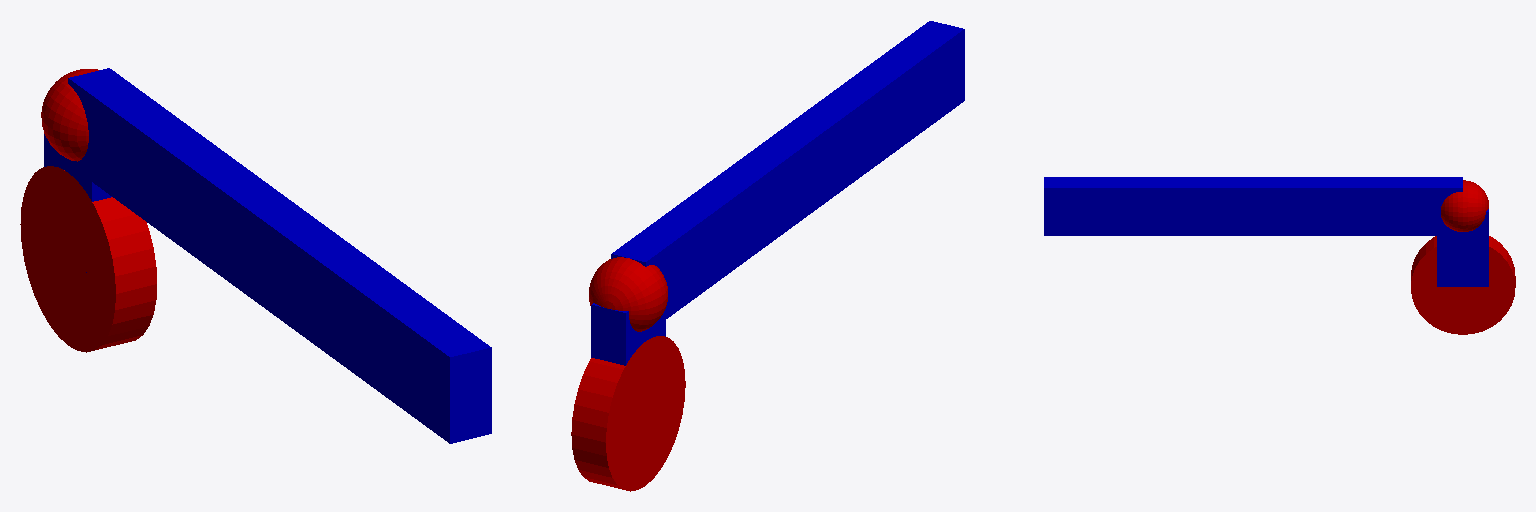
robot.urdf — TwoLinkStruct5673316554:
<?xml version="1.0"?>
<robot  name="TwoLinkStruct5673316554" >
 <material  name="blue" >
  <color  rgba="0 0 0.8 1.0" />
 </material>
 <material  name="red" >
  <color  rgba="0.8 0 0 1.0" />
 </material>
 <link  name="base_link" >
  <visual >
   <origin  rpy="0 1.5707 0"  xyz="0 0 0" />
   <material  name="red" />
   <geometry >
    <cylinder  length="0.05"  radius="0.1" />
   </geometry>
  </visual>
 </link>
 <joint  type="revolute"  name="joint1" >
  <parent  link="base_link" />
  <child  link="link1" />
  <origin  xyz="0 0 0"  rpy="0 0 0" />
  <axis  xyz="1 0 0" />
 </joint>
 <link  name="link1" >
  <inertial >
   <origin  rpy="0 0 0"  xyz="0 0 0.07960283236634784" />
   <mass  value="0.3709419367813739" />
   <inertia  ixy="0.0"  iyy="0.00015455914032557247"  izz="0.0008607844793531558"  ixz="0.0"  ixx="0.0008607844793531558"  iyz="0.0" />
  </inertial>
  <visual >
   <origin  rpy="0 0 0"  xyz="0 0 0.07960283236634784" />
   <material  name="blue" />
   <geometry >
    <box  size="0.05 0.1 0.15920566473269568" />
   </geometry>
  </visual>
 </link>
 <joint  type="fixed"  name="joint-joint-1" >
  <parent  link="link1" />
  <child  link="joint-link-1" />
  <origin  xyz="0 0 0.15920566473269568"  rpy="1.5707 0 0" />
  <axis  xyz="1 0 0" />
 </joint>
 <link  name="joint-link-1" >
  <inertial >
   <origin  rpy="0 0 0"  xyz="0 0 0" />
   <mass  value="1.3611075287219663" />
   <inertia  ixy="0"  iyy="0"  izz="0"  ixz="0"  ixx="0"  iyz="0" />
  </inertial>
  <visual >
   <origin  rpy="0 0 0"  xyz="0 0 0" />
   <material  name="red" />
   <geometry >
    <sphere  radius="0.05" />
   </geometry>
  </visual>
 </link>
 <joint  type="revolute"  name="joint2" >
  <parent  link="link1" />
  <child  link="link2" />
  <origin  xyz="0 0 0.15920566473269568"  rpy="1.5707 0 0" />
  <axis  xyz="1 0 0" />
 </joint>
 <link  name="link2" >
  <inertial >
   <origin  rpy="0 0 0"  xyz="0 0 0.39974279529384943" />
   <mass  value="2.576277004298306" />
   <inertia  ixy="0.0"  iyy="0.00015455914032557247"  izz="0.0198354155751396"  ixz="0.0"  ixx="0.0198354155751396"  iyz="0.0" />
  </inertial>
  <visual >
   <origin  rpy="0 0 0"  xyz="0 0 0.39974279529384943" />
   <material  name="blue" />
   <geometry >
    <box  size="0.05 0.1 0.7994855905876989" />
   </geometry>
  </visual>
 </link>
 <joint  type="fixed"  name="eef_joint" >
  <parent  link="link2" />
  <child  link="eef" />
  <origin  xyz="0 0 0.7994855905876989"  rpy="0 0 0" />
 </joint>
 <link  name="eef" >
  <inertial >
   <origin  rpy="0 0 0"  xyz="0 0 0" />
   <mass  value="1" />
   <inertia  ixy="0"  iyy="0"  izz="0"  ixz="0"  ixx="0"  iyz="0" />
  </inertial>
 </link>
 <transmission  name="motor1" >
  <type  xmltext="SimpleTransmission" >
   SimpleTransmission
  </type>
  <actuator  name="motor1" >
   <mechanicalreduction  xmltext="1" >
    1
   </mechanicalreduction>
  </actuator>
  <joint  name="joint1" />
 </transmission>
 <transmission  name="motor2" >
  <type  xmltext="SimpleTransmission" >
   SimpleTransmission
  </type>
  <actuator  name="motor2" >
   <mechanicalreduction  xmltext="1" >
    1
   </mechanicalreduction>
  </actuator>
  <joint  name="joint2" />
 </transmission>
</robot>

<!-- {'carti': array([-0.1 ,  0.14,  0.85]), 'cartd': array([-0.1 ,  0.32,  1.29]), 'tau_mu': 0.441388462468169, 'b0': 0.8109928110972272, 'Km': 2.847179157231837, 'k_velocity': 72.29821435185968, 'tau_max_m': 2.818137481309163, 'omega_max_m': 5841.675794267696, 'gear_ratio': 12.1960218926045, 'Kp': 60.00388797351458, 'Kd': 93.04454183969747, 'm_m': 1.3611075287219663, 'l1': 0.15920566473269568, 'l2': 0.7994855905876989, 'k1': 17469.191810740136, 'k2': 142163213.1535584, 'k3': 306106849.18526006}-->

--- Facts derived from the render (not from the file) ---
Views: 3 orthographic renders of the robot side by side, from view 1: azimuth 30°, elevation 25°; view 2: azimuth 150°, elevation 25°; view 3: azimuth 270°, elevation 25°.
Robot: TwoLinkStruct5673316554 — 5 links, 4 joints (2 revolute, 2 fixed); root link base_link; default pose: all joints at 0.
Links seen in each view (by area): view 1: link2, base_link, joint-link-1, link1; view 2: link2, base_link, joint-link-1, link1; view 3: link2, base_link, link1, joint-link-1.
Link boxes in pixels (x1,y1,x2,y2): link2: (68,68,491,443); base_link: (20,166,156,352); joint-link-1: (41,69,98,161); link1: (44,134,111,272); link2: (611,21,964,333); base_link: (571,336,685,491); joint-link-1: (589,257,667,331); link1: (591,303,665,365); link2: (1044,177,1462,235); base_link: (1411,236,1515,334); link1: (1437,209,1488,286); joint-link-1: (1441,180,1488,231).
Size in the robot's own frame: 0.1 by 0.8995 by 0.3093 metres.
Geometry: primitives only (box / cylinder / sphere), no mesh files.
